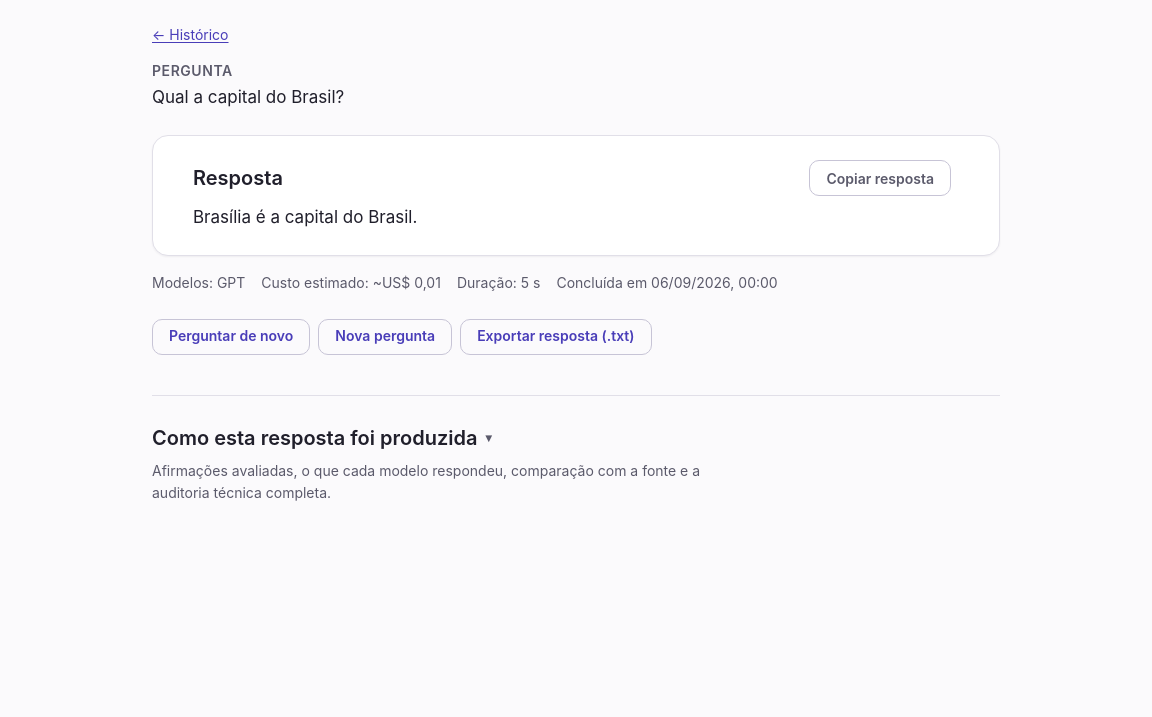
RunDetail › falha no audit não apaga o detail já carregado
This screenshot has width=1152, height=717.
Expected: the text "Brasília é a capital do Brasil." is shown, [193,207,417,227]
Click the button "Como esta resposta foi produzida ▾" at x=322, y=438, box [152,420,492,456]
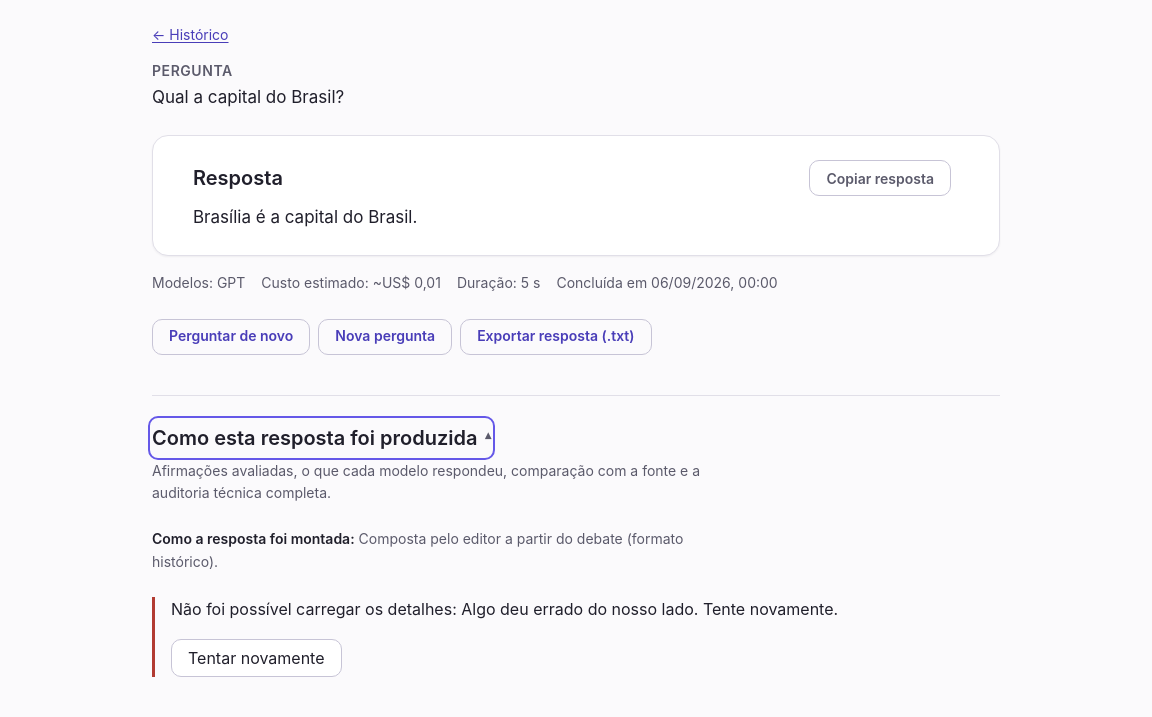
Expected: the text "Brasília é a capital do Brasil." is shown, [193,207,417,227]
Now the text "Não foi possível carregar os detalhes" is shown, box [171,599,461,619]
